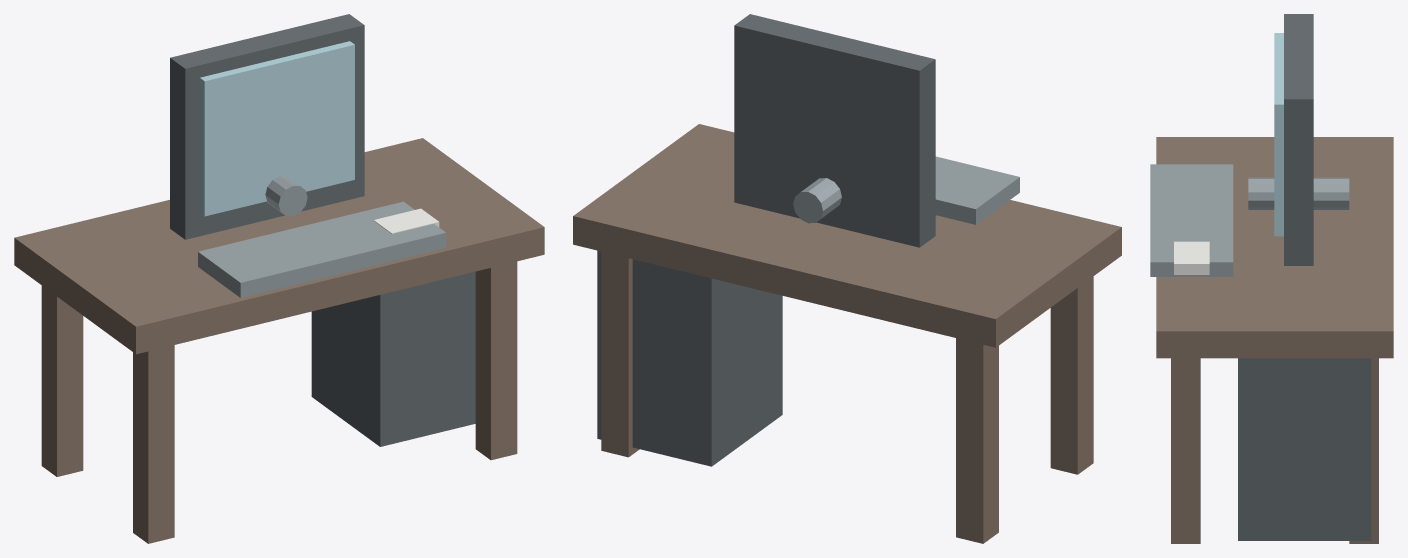
The model's file is computer_basic.glb.
3 views of the same model, side by side, from view 1: azimuth 30°, elevation 25°; view 2: azimuth 150°, elevation 25°; view 3: azimuth 270°, elevation 25° (orthographic). The views are drawn at different scales.
Parts seen in each view (by area): view 1: part_00, part_04, part_02, part_01, part_03, part_10, part_08, part_07, part_06, part_05; view 2: part_00, part_01, part_04, part_07, part_08, part_09, part_03, part_06; view 3: part_00, part_04, part_03, part_01, part_10, part_06, part_02, part_09, part_05.
Boxes of the visible parts, bbox=[...] form: part_00: bbox=[14, 138, 544, 354]; part_04: bbox=[311, 271, 475, 446]; part_02: bbox=[199, 41, 354, 216]; part_01: bbox=[170, 14, 364, 239]; part_03: bbox=[198, 201, 446, 297]; part_10: bbox=[475, 261, 517, 460]; part_08: bbox=[133, 345, 174, 543]; part_07: bbox=[41, 285, 83, 476]; part_06: bbox=[265, 176, 307, 216]; part_05: bbox=[373, 208, 439, 233]; part_00: bbox=[573, 124, 1121, 347]; part_01: bbox=[734, 14, 935, 247]; part_04: bbox=[597, 250, 782, 466]; part_07: bbox=[956, 338, 998, 543]; part_08: bbox=[1050, 276, 1093, 474]; part_09: bbox=[601, 251, 639, 457]; part_03: bbox=[935, 156, 1019, 224]; part_06: bbox=[793, 178, 841, 223]; part_00: bbox=[1156, 137, 1393, 358]; part_04: bbox=[1238, 358, 1371, 540]; part_03: bbox=[1150, 164, 1233, 276]; part_01: bbox=[1284, 14, 1313, 265]; part_10: bbox=[1171, 358, 1200, 543]; part_06: bbox=[1248, 177, 1349, 209]; part_02: bbox=[1274, 33, 1283, 236]; part_09: bbox=[1349, 358, 1378, 543]; part_05: bbox=[1174, 241, 1209, 274].
Bounding box in the file's own units: 1.55 × 1.49 × 0.82.
